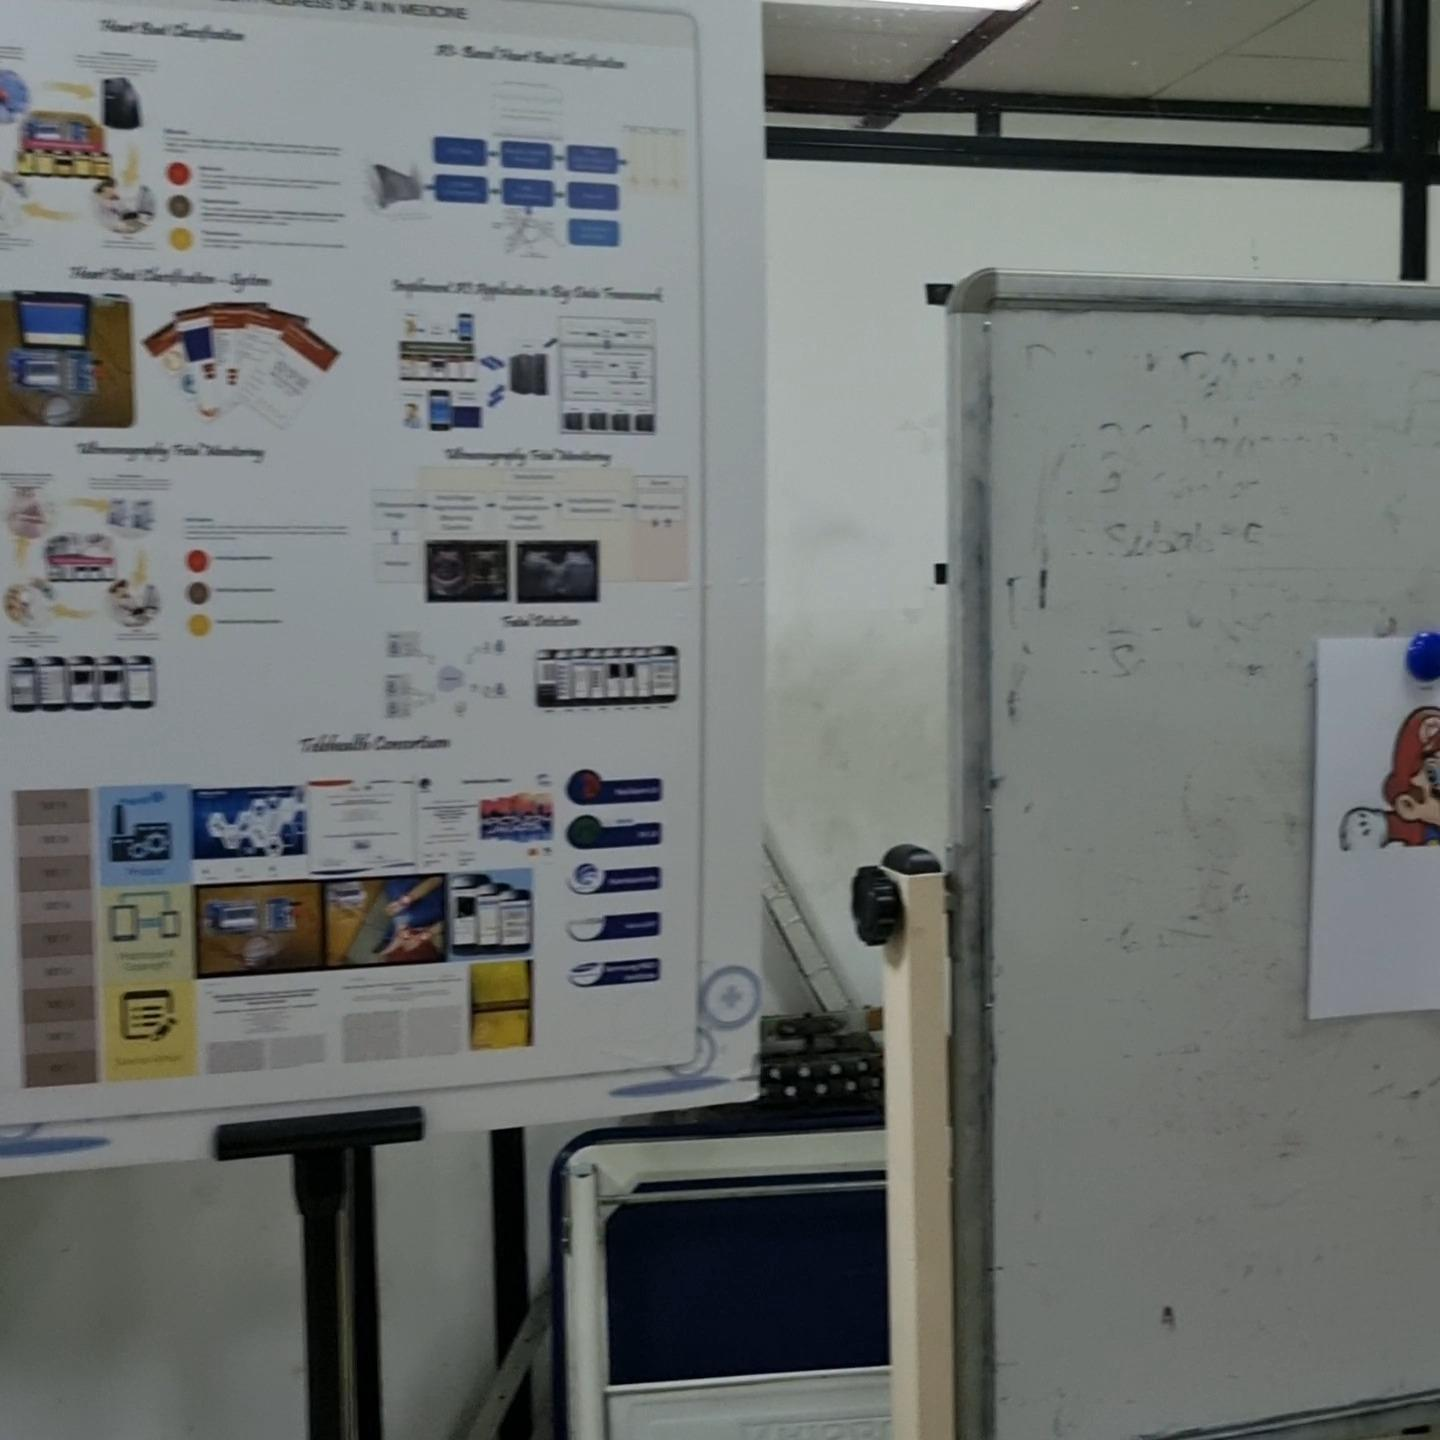mario: (1337, 698, 1440, 858)
